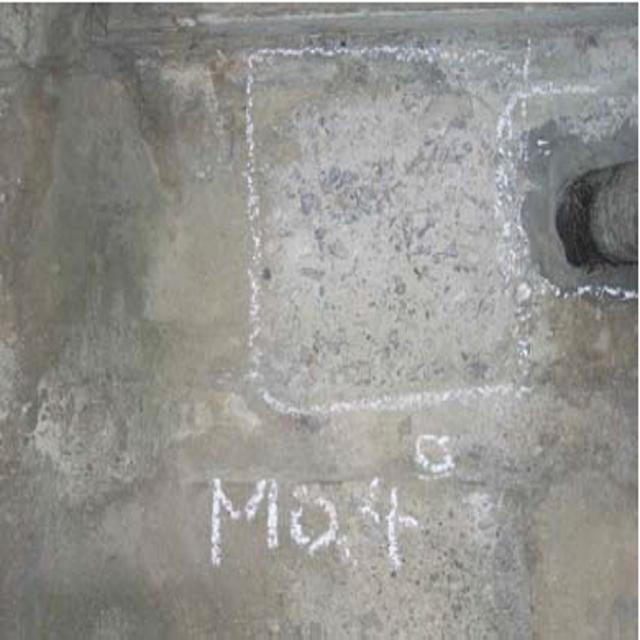spalling: (270, 79, 537, 422)
